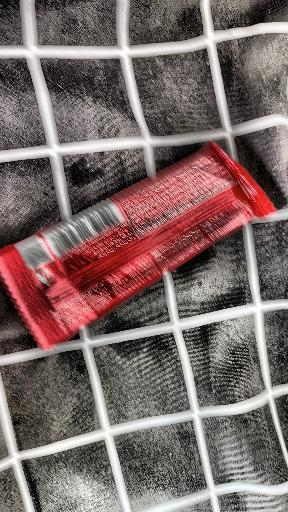chocho: (0, 89, 243, 395)
